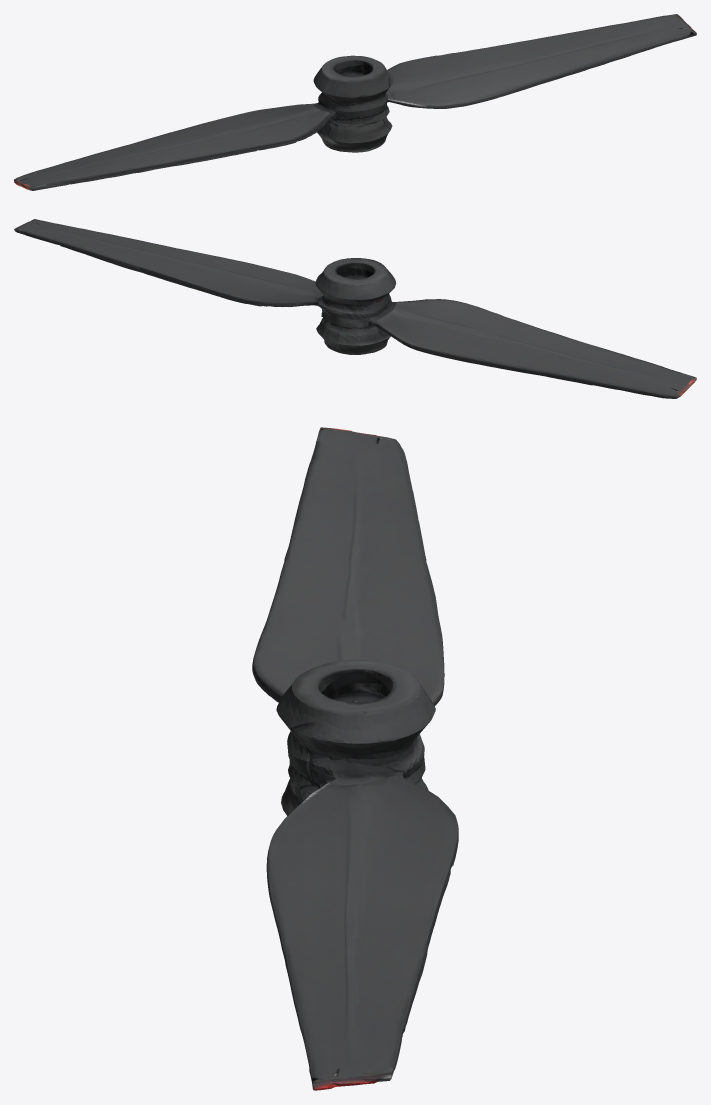
The model's file is Drone_Fly_Model.fbx.
3 views of the same model, one above another, from view 1: azimuth 30°, elevation 25°; view 2: azimuth 150°, elevation 25°; view 3: azimuth 270°, elevation 25° (orthographic). The views are drawn at different scales.
Parts seen in each view (by area): view 1: temp; view 2: temp; view 3: temp.
Boxes of the visible parts, <box> form: temp: <box>14,14,696,190</box>; temp: <box>14,219,696,398</box>; temp: <box>252,427,458,1090</box>.
Size of the model in its own units: 200 by 20.58 by 26.93.
1 material, 1 textured.
